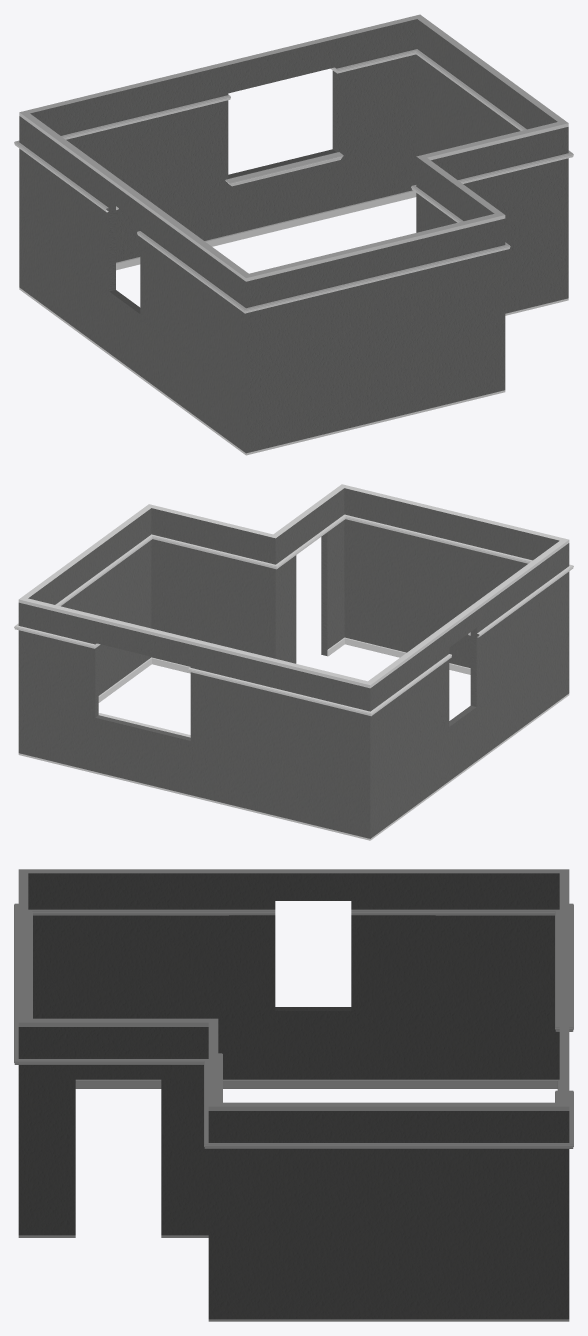
Rendered from FP323:StandardWallSize_019_3bc51385.obj.
The picture shows the model from 3 angles, top to bottom: view 1: azimuth 30°, elevation 25°; view 2: azimuth 150°, elevation 25°; view 3: azimuth 270°, elevation 25°; orthographic projection. The views are drawn at different scales.
Visible parts, largest first — view 1: FP323:StandardWallSize.019_3bc51385; view 2: FP323:StandardWallSize.019_3bc51385; view 3: FP323:StandardWallSize.019_3bc51385.
Boxes of the visible parts, x1=… form: FP323:StandardWallSize.019_3bc51385: x1=14, y1=14, x2=573, y2=455; FP323:StandardWallSize.019_3bc51385: x1=14, y1=484, x2=573, y2=840; FP323:StandardWallSize.019_3bc51385: x1=14, y1=869, x2=573, y2=1321.
Size of the model in its own units: 6.02 by 2.5 by 5.9.
